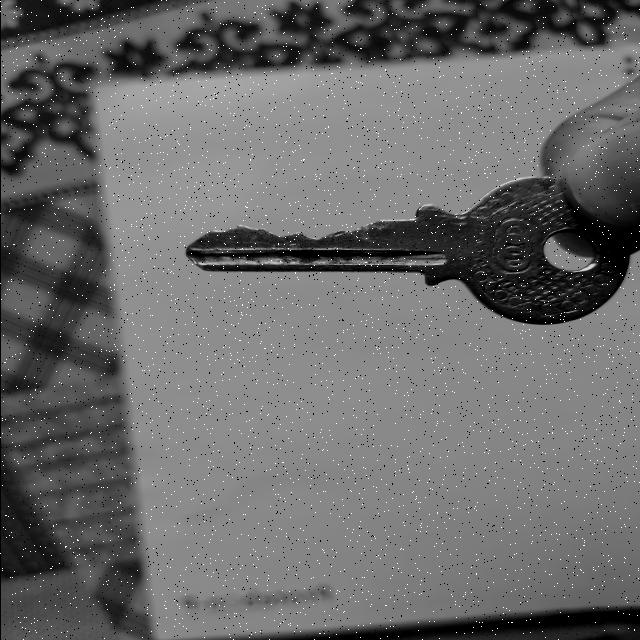key: (185, 176, 630, 324)
